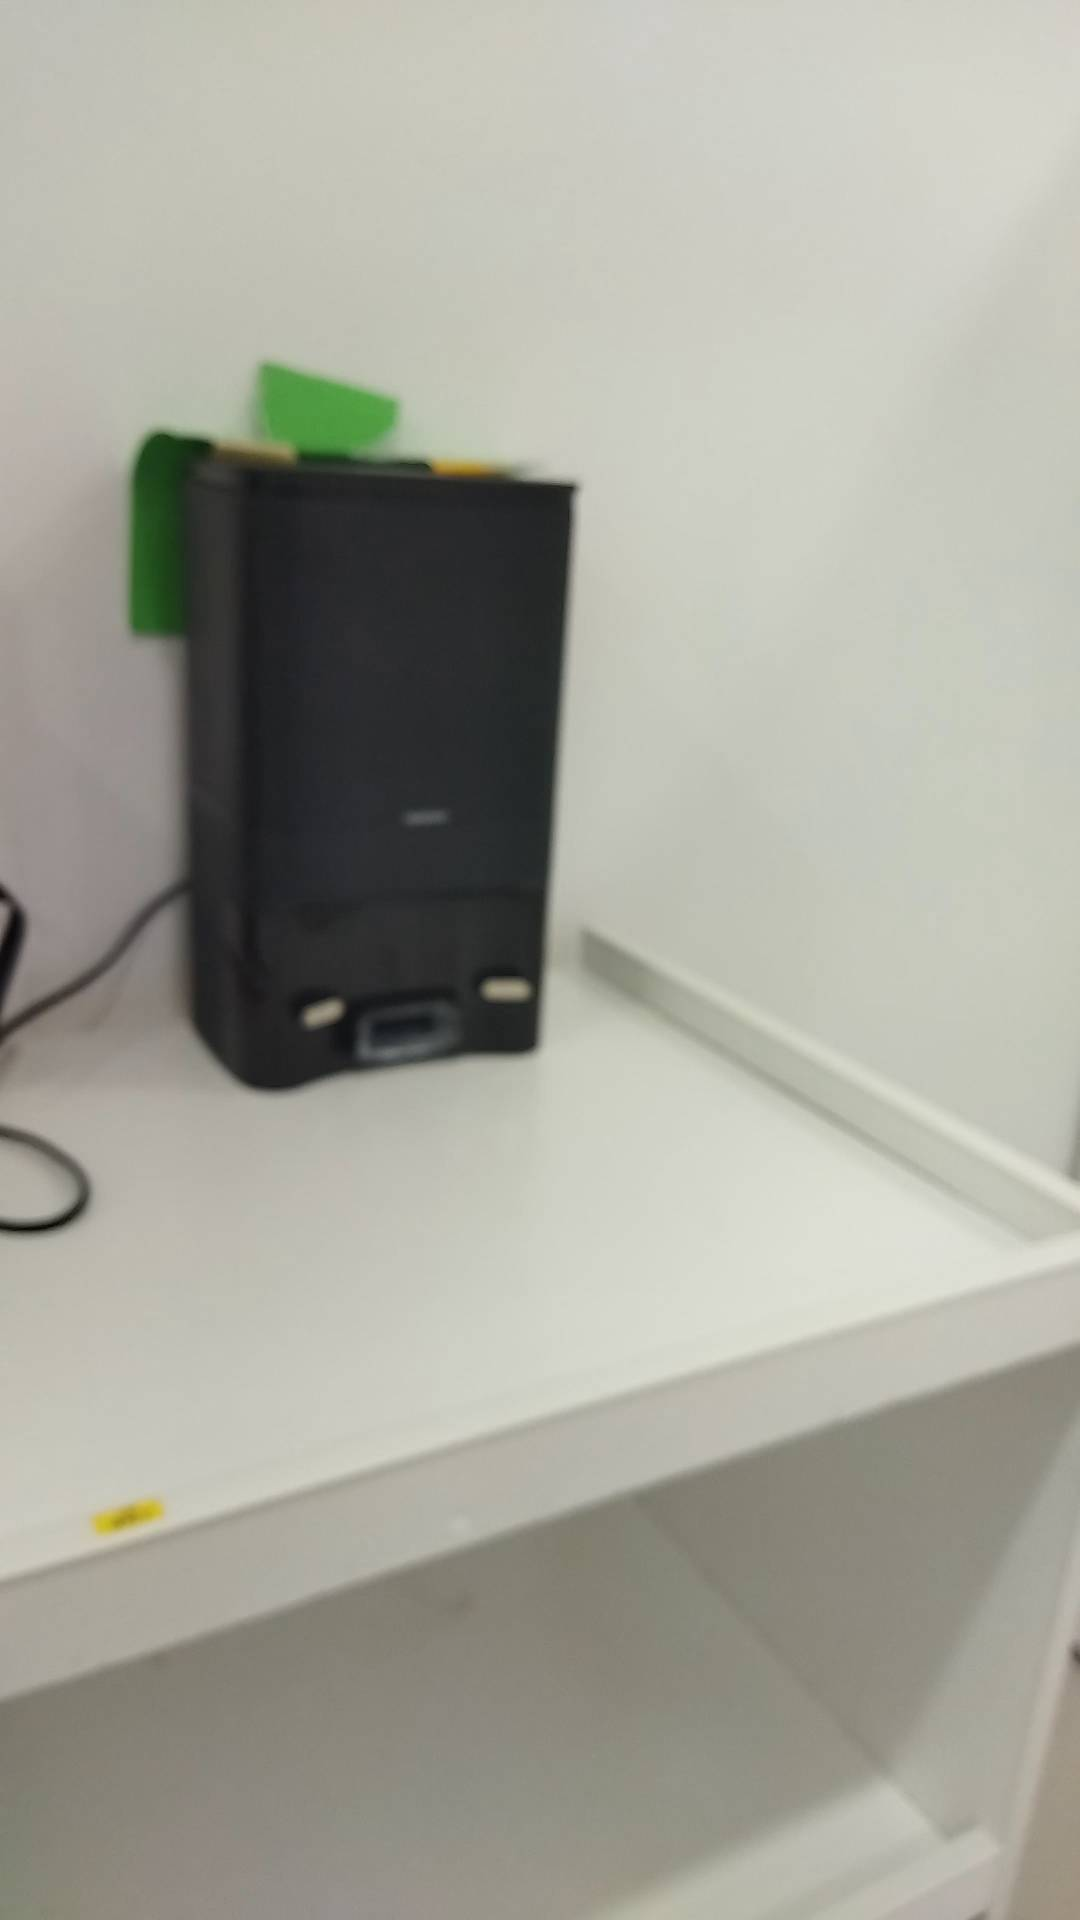dust collecting barrel: (178, 450, 576, 1091)
